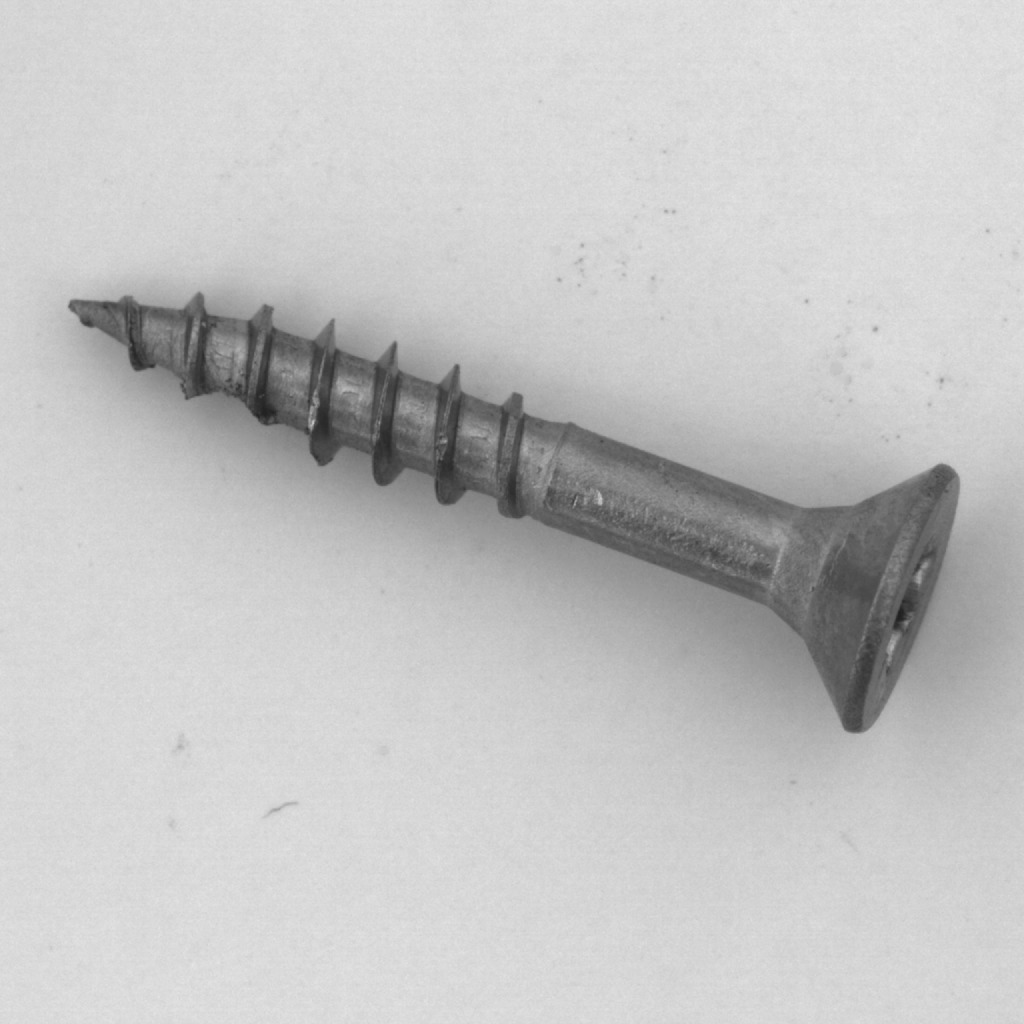thread_side: (249, 324, 428, 503)
